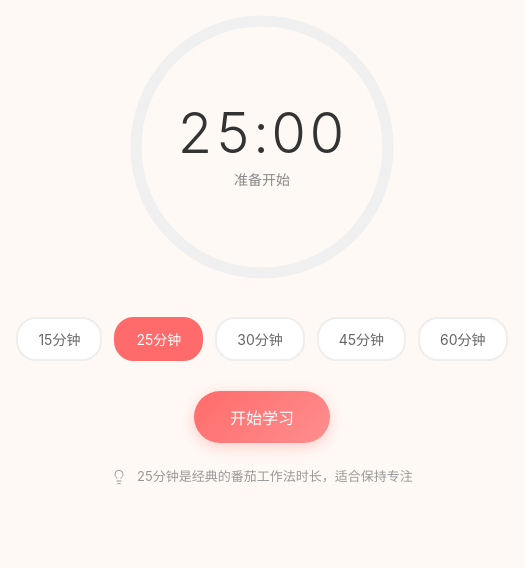
Test: Timer Component › 计时控制 › 放弃后应该重置到初始状态
The image size is (525, 568).
Click the button "开始学习" at (262, 417), box [194, 391, 330, 443]
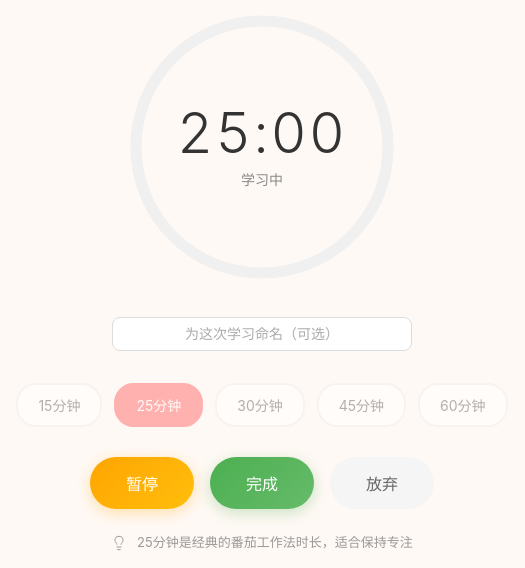
Click the button "放弃" at (382, 483), box [330, 457, 434, 509]
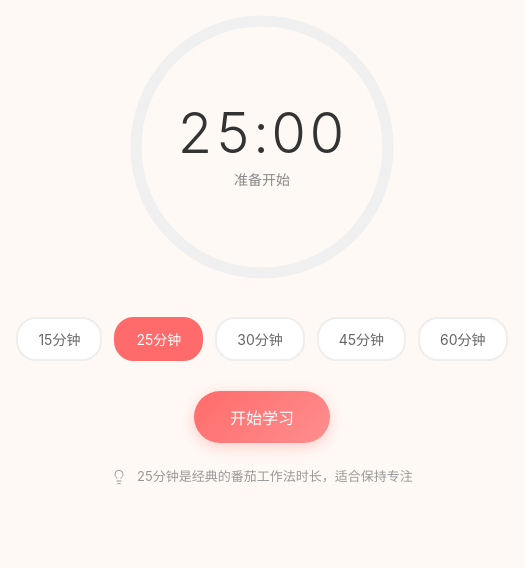
Expected: the text "25:00" is shown, [177, 98, 347, 166]
Now the button "开始学习" is shown, box [194, 391, 330, 443]
